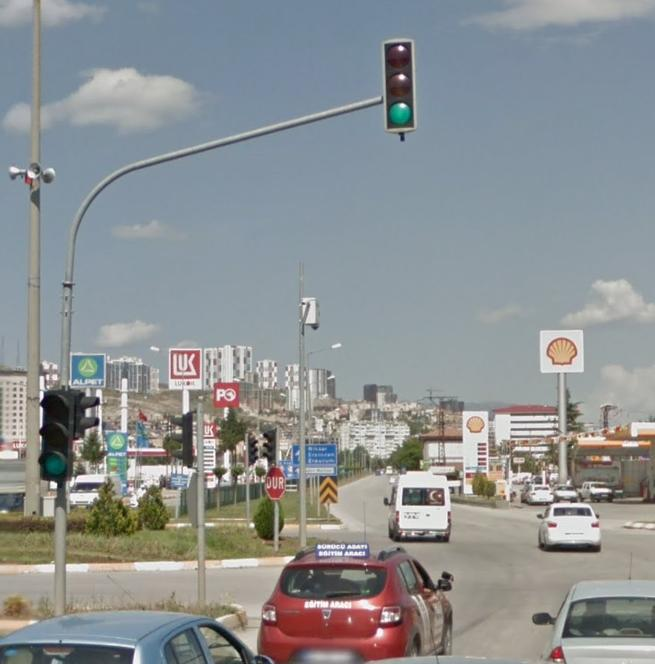greenlight: (38, 385, 81, 483), (384, 43, 412, 129)
